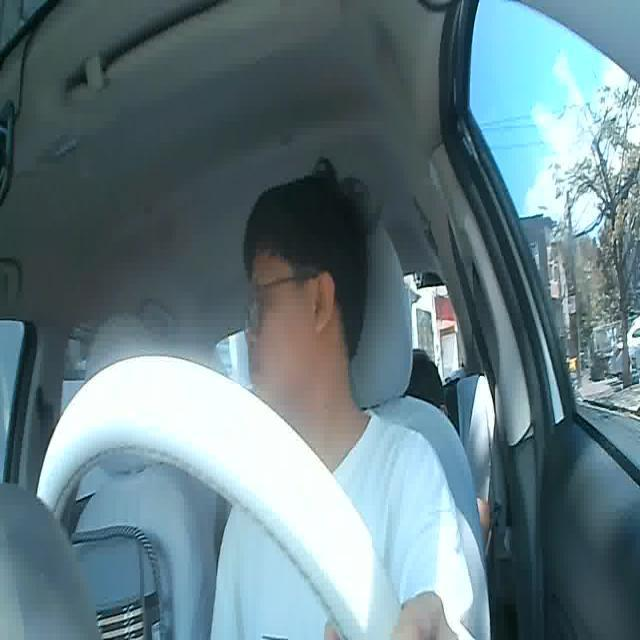Inattentive: (242, 176, 369, 398)
